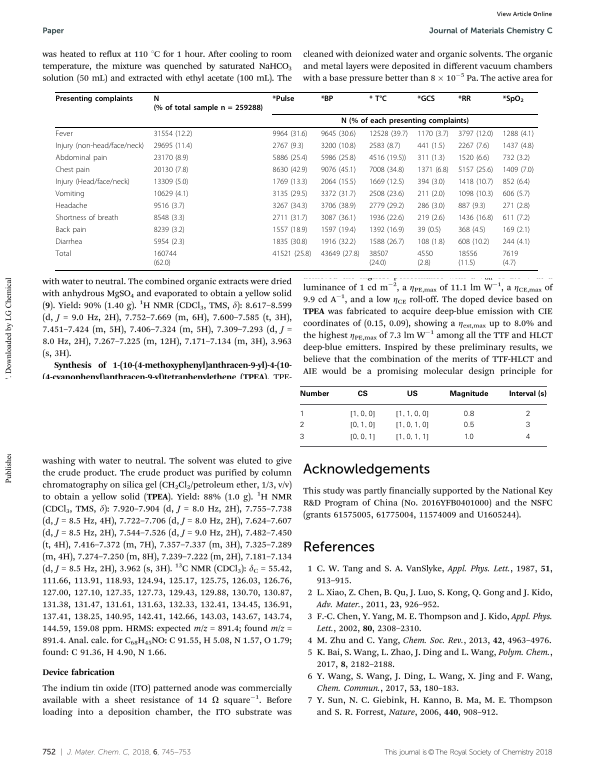borderless: (54, 90, 538, 270), (299, 384, 547, 446)
cell: (153, 94, 264, 112), (340, 116, 470, 126), (55, 141, 145, 151), (55, 177, 131, 187), (55, 94, 134, 103), (55, 213, 119, 223), (55, 153, 108, 163), (153, 249, 177, 267), (368, 129, 409, 139), (153, 129, 193, 139), (153, 141, 193, 151), (368, 153, 407, 163), (368, 249, 389, 267), (457, 249, 478, 267), (320, 129, 357, 139), (457, 129, 494, 139), (320, 141, 357, 151), (320, 153, 357, 163), (320, 165, 357, 175), (368, 165, 405, 175), (457, 165, 494, 175), (320, 177, 357, 187), (368, 177, 405, 187), (457, 177, 494, 187), (320, 189, 357, 199), (368, 189, 405, 199), (457, 189, 494, 199), (320, 201, 357, 211), (368, 201, 405, 211), (320, 213, 357, 223), (368, 213, 405, 223), (457, 213, 494, 223), (448, 390, 489, 399), (272, 129, 308, 139), (153, 153, 189, 163), (272, 153, 308, 163), (55, 165, 91, 175), (153, 165, 189, 175), (272, 165, 308, 175), (153, 177, 189, 187), (272, 177, 308, 187), (153, 189, 189, 199), (272, 189, 308, 199), (272, 201, 308, 211), (272, 213, 308, 223), (272, 249, 312, 258), (320, 249, 360, 258), (508, 390, 547, 399), (320, 225, 357, 234), (368, 225, 405, 234), (320, 237, 357, 246), (368, 237, 405, 246), (416, 129, 449, 139), (502, 129, 535, 139), (272, 141, 305, 151), (368, 141, 401, 151), (457, 141, 490, 151), (502, 141, 535, 151), (457, 153, 490, 163), (416, 165, 449, 175), (502, 165, 535, 175), (55, 201, 88, 211), (153, 201, 186, 211), (153, 213, 186, 223), (272, 225, 308, 234), (272, 237, 308, 246), (416, 249, 434, 267), (394, 409, 429, 418), (394, 432, 429, 441), (502, 249, 519, 267), (416, 141, 446, 151), (416, 153, 446, 163), (416, 177, 446, 187), (55, 189, 85, 199), (416, 189, 446, 199), (416, 201, 446, 211), (416, 213, 446, 223), (153, 225, 186, 234), (153, 237, 186, 246), (457, 237, 490, 246), (502, 153, 531, 163), (502, 177, 531, 187), (502, 189, 531, 199), (457, 201, 486, 211), (502, 201, 531, 211), (502, 213, 531, 223), (55, 225, 87, 234), (298, 390, 330, 399), (394, 421, 429, 429), (416, 237, 446, 246), (457, 225, 486, 234), (502, 225, 531, 234), (502, 237, 531, 246), (55, 237, 83, 246), (349, 409, 376, 418), (349, 432, 376, 441), (416, 225, 442, 234), (502, 94, 525, 104), (349, 421, 376, 429), (272, 94, 295, 103), (55, 129, 74, 139), (368, 94, 388, 103), (416, 94, 436, 103), (55, 249, 72, 258), (457, 94, 472, 103), (320, 94, 334, 103), (405, 390, 418, 399), (356, 390, 368, 399), (462, 409, 475, 417), (462, 421, 475, 428), (463, 432, 474, 440), (298, 409, 305, 417), (524, 409, 530, 417), (299, 432, 305, 440), (524, 432, 530, 440), (299, 421, 305, 428), (524, 421, 530, 428)
